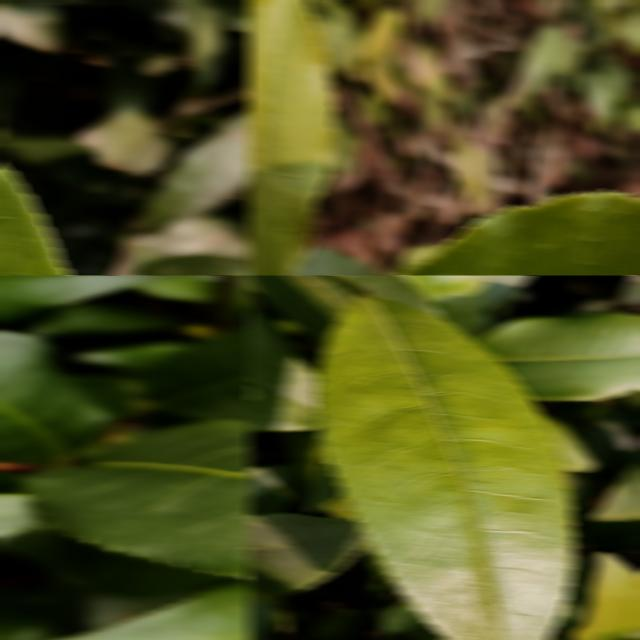Leaf: (314, 296, 574, 640), (22, 419, 252, 579), (246, 0, 335, 275), (397, 190, 640, 275), (0, 329, 113, 463), (475, 312, 640, 400), (140, 107, 252, 228), (248, 275, 441, 343), (136, 324, 252, 420), (246, 512, 368, 595), (246, 304, 319, 432), (0, 275, 169, 321), (571, 551, 640, 640), (403, 275, 487, 336), (579, 59, 631, 124), (246, 463, 308, 515), (290, 246, 375, 275), (138, 254, 252, 275), (572, 518, 640, 548)
